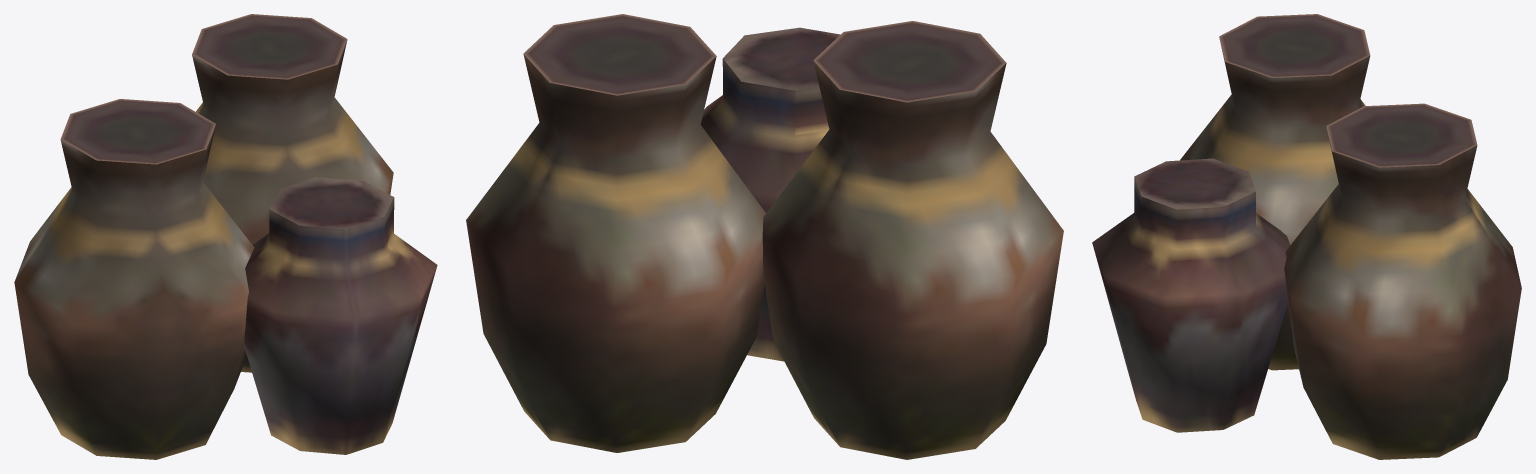
The model's file is Area_06_28.fbx.
3 renders of one model, left to right at view 1: azimuth 30°, elevation 25°; view 2: azimuth 150°, elevation 25°; view 3: azimuth 270°, elevation 25°, orthographic. The views are drawn at different scales.
Parts seen in each view (by area): view 1: Area_06_28; view 2: Area_06_28; view 3: Area_06_28.
Part boxes in pixels (x1,y1,x2,y2): Area_06_28: (14, 14, 437, 459); Area_06_28: (466, 14, 1063, 459); Area_06_28: (1092, 14, 1521, 459).
Size of the model in its own units: 160 by 114 by 152.
Materials: 1 (1 with a texture image).
